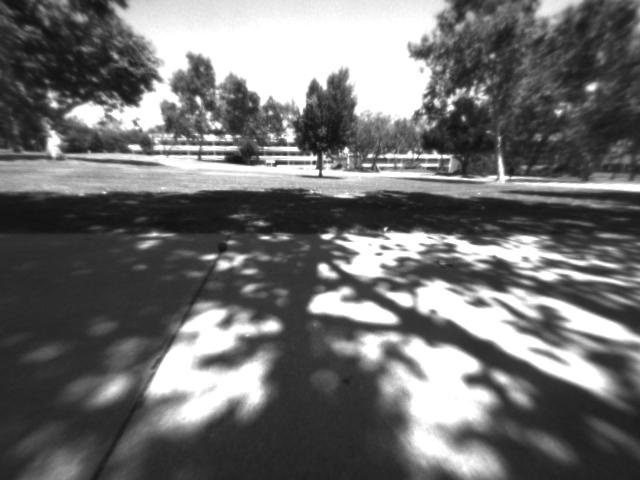dogtoy: (209, 238, 232, 256)
